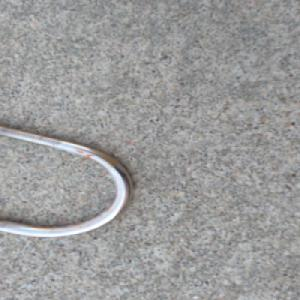ClampPart: (0, 123, 139, 238)
